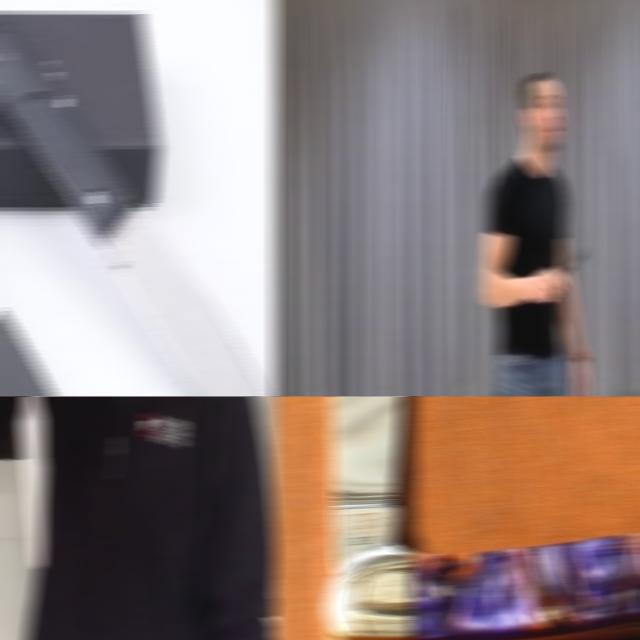Knife: (0, 12, 269, 396)
Knife_Handle: (0, 396, 47, 568), (528, 248, 586, 304)
